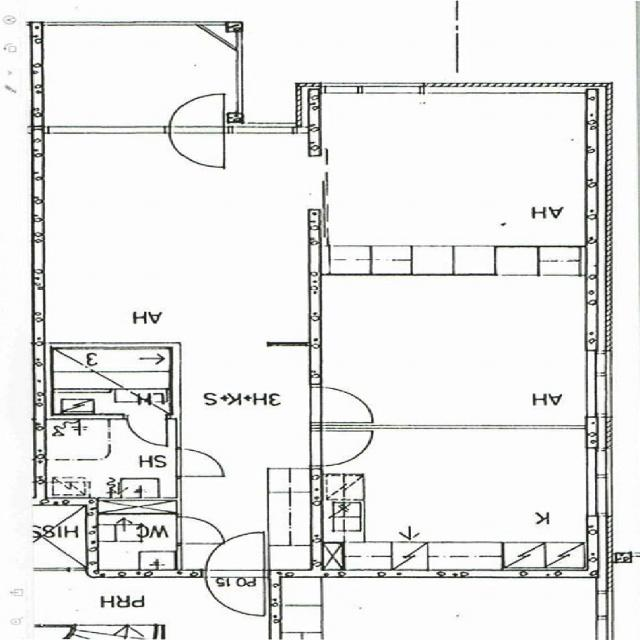door: (207, 569, 264, 615), (207, 532, 264, 578), (170, 87, 223, 133), (170, 123, 223, 169), (308, 387, 374, 422), (308, 431, 373, 466), (127, 413, 167, 446), (175, 449, 222, 476), (176, 517, 222, 543)
